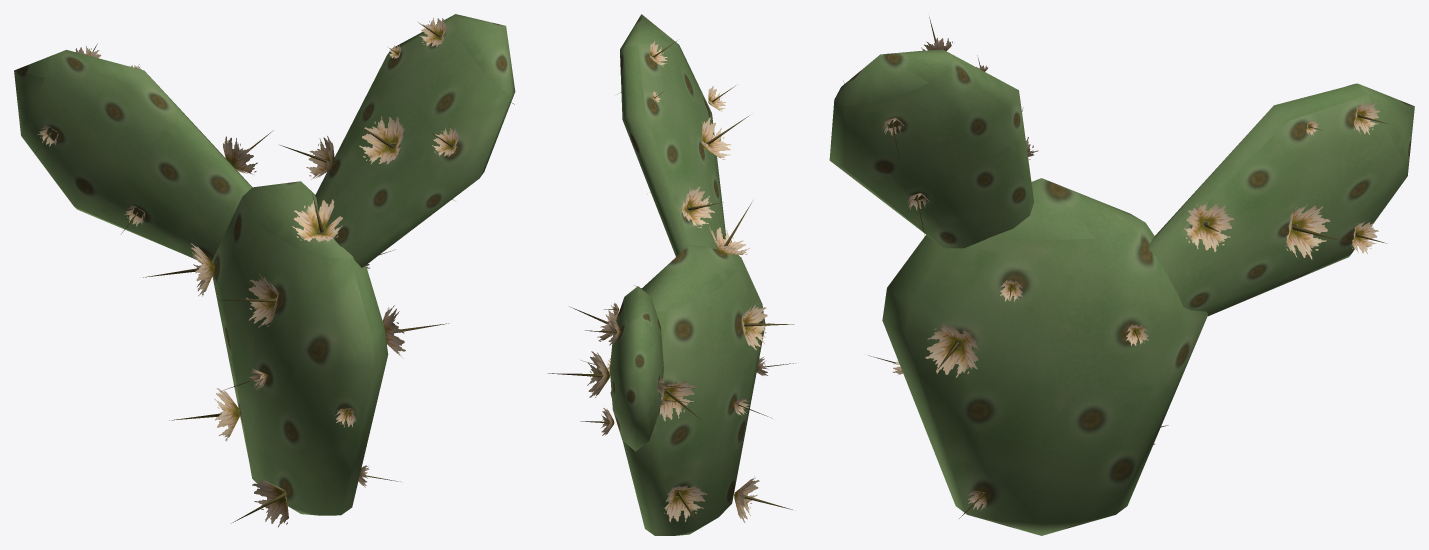
The model's file is Model_Cactus_Small_03.fbx.
The picture shows the model from 3 angles, left to right: view 1: azimuth 30°, elevation 25°; view 2: azimuth 150°, elevation 25°; view 3: azimuth 270°, elevation 25°; orthographic projection. The views are drawn at different scales.
Parts seen in each view (by area): view 1: Cactus_Small_03; view 2: Cactus_Small_03; view 3: Cactus_Small_03.
Boxes of the visible parts, bbox=[...] form: Cactus_Small_03: bbox=[14, 14, 515, 527]; Cactus_Small_03: bbox=[548, 14, 795, 535]; Cactus_Small_03: bbox=[829, 17, 1414, 535].
Bounding box in the file's own units: 61.26 × 104 × 99.87.
